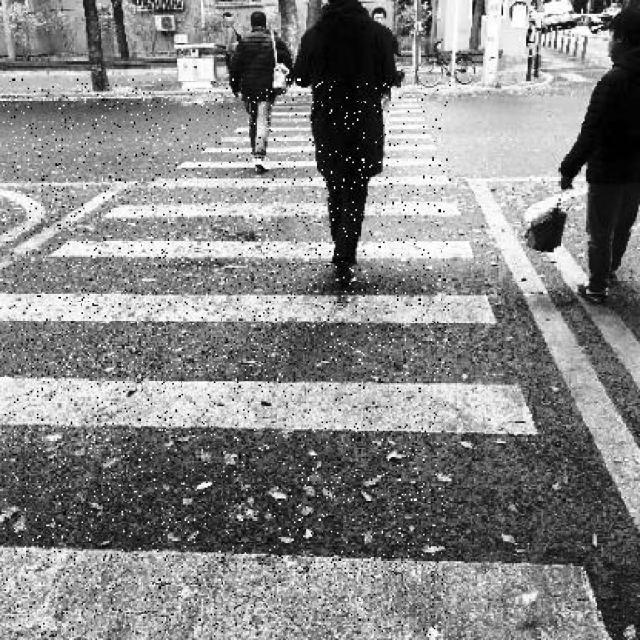crosswalk: (0, 91, 610, 637)
